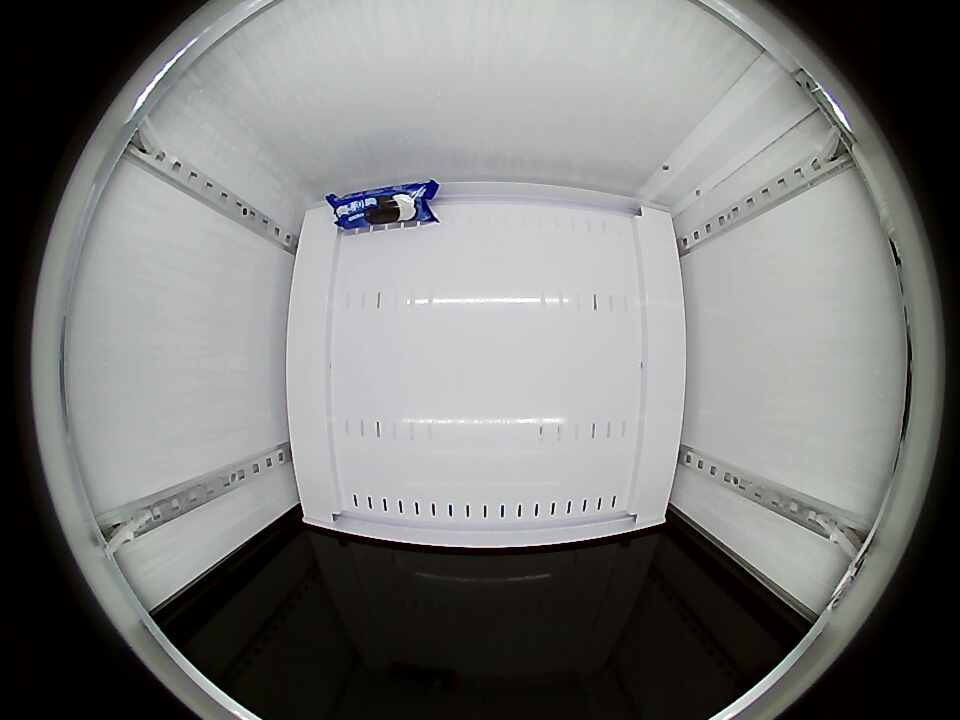aoliao: (328, 183, 438, 234)
